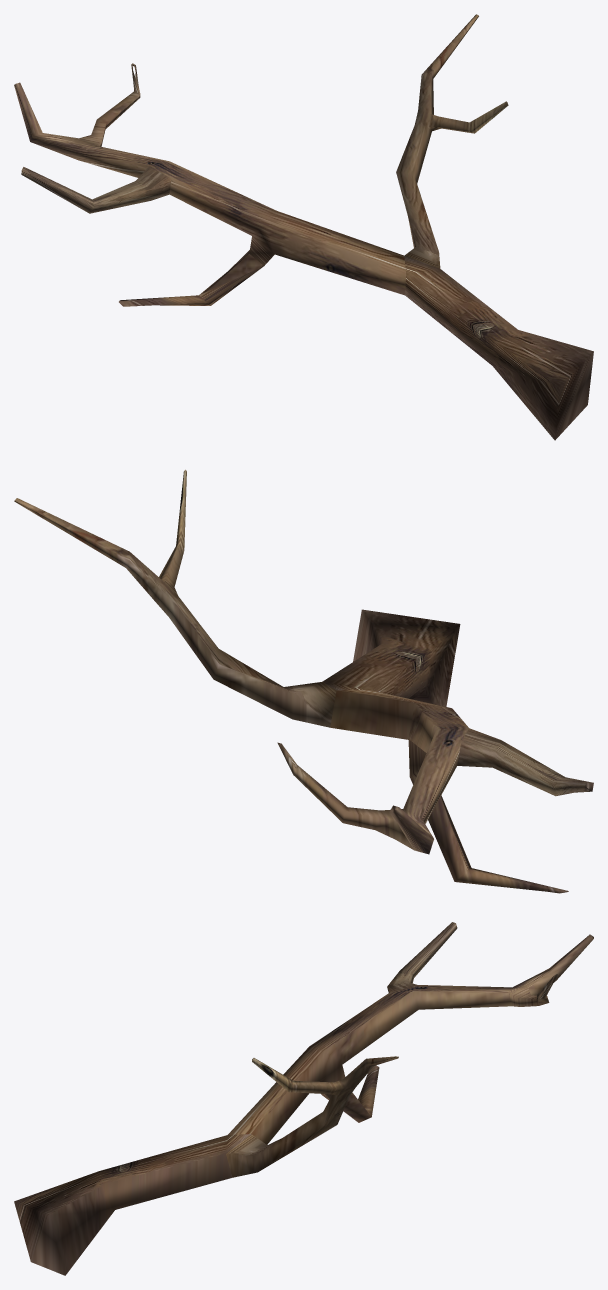
The model's file is dead_branch.fbx.
3 renders of one model, top to bottom at view 1: azimuth 30°, elevation 25°; view 2: azimuth 150°, elevation 25°; view 3: azimuth 270°, elevation 25°, orthographic. The views are drawn at different scales.
Parts seen in each view (by area): view 1: pCube83; view 2: pCube83; view 3: pCube83.
Part boxes in pixels (<box>): pCube83: <box>14,14,593,440</box>; pCube83: <box>14,469,593,893</box>; pCube83: <box>14,922,593,1275</box>.
Bounding box in the file's own units: 371 × 217 × 443.
